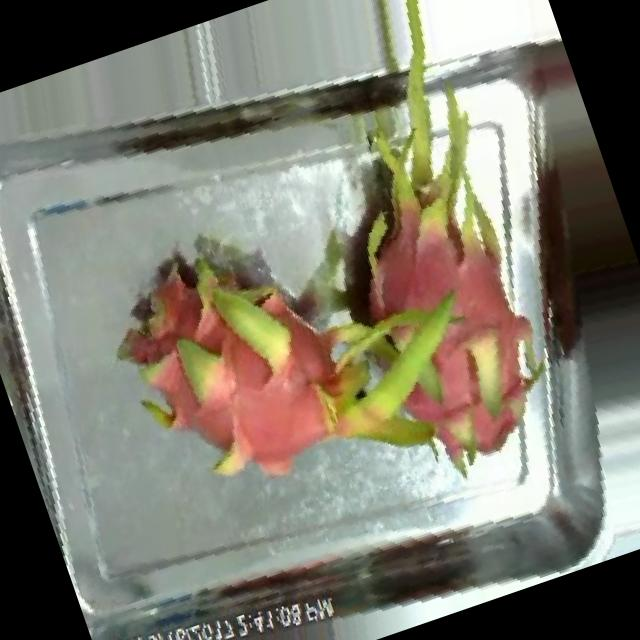Fruit: (309, 158, 525, 376)
